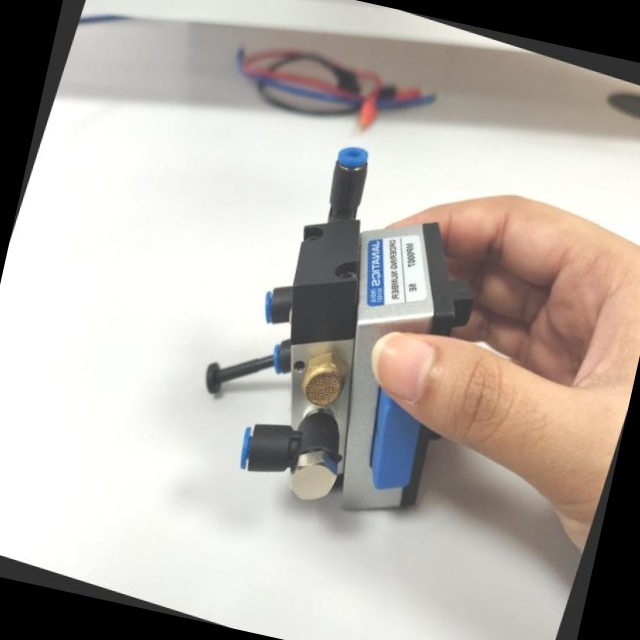5by2 DCV: (162, 94, 530, 552)
